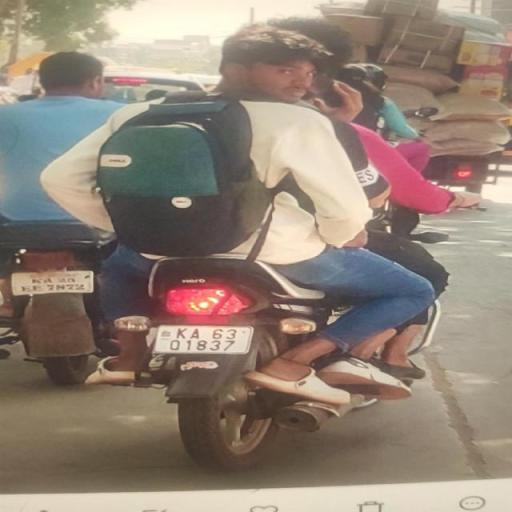tripple riding: (37, 23, 478, 277)
